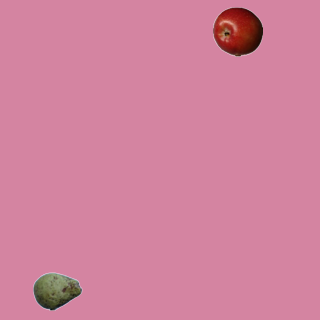Apple Braeburn: (212, 6, 262, 56)
Pear Stone: (32, 266, 82, 316)
